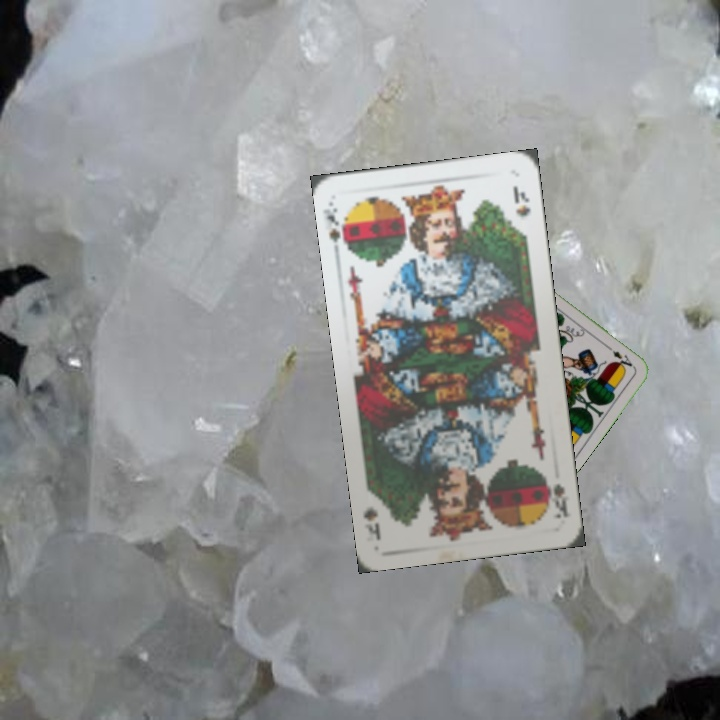EA: (601, 341, 635, 370)
SK: (322, 198, 354, 257), (541, 471, 573, 521)
